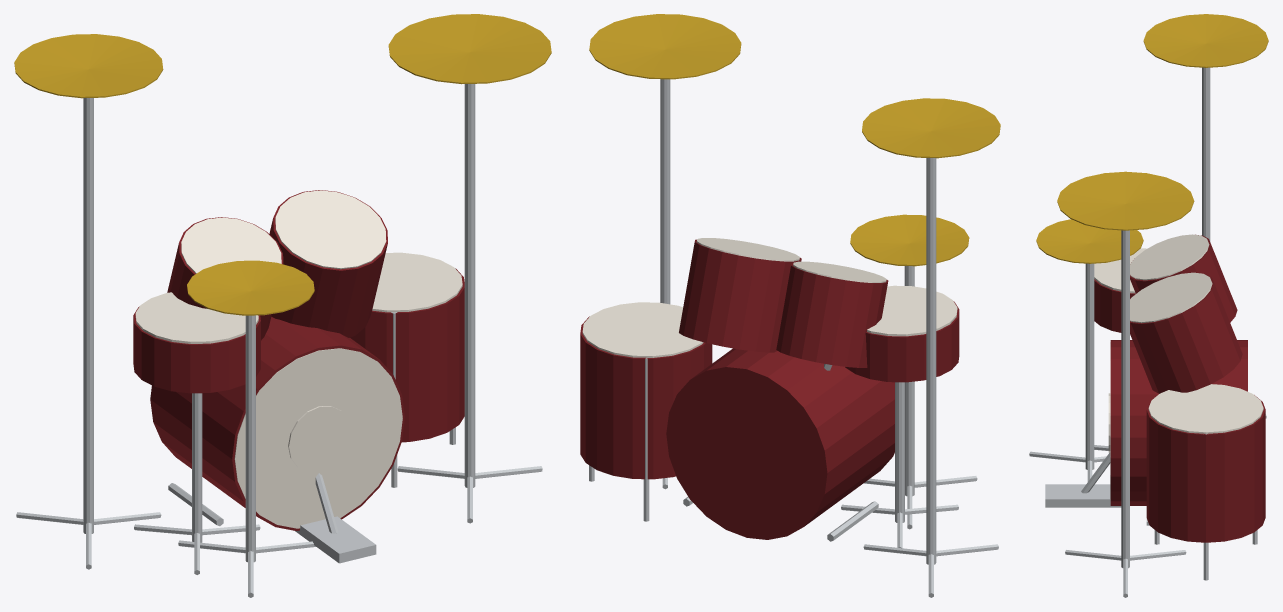
The model's file is drum-kit.glb.
3 renders of one model, left to right at view 1: azimuth 30°, elevation 25°; view 2: azimuth 150°, elevation 25°; view 3: azimuth 270°, elevation 25°, orthographic. The views are drawn at different scales.
Visible parts, largest first — view 1: drum-skins, drum-shells, cymbals, drum-hardware, kick-pedal; view 2: drum-shells, cymbals, drum-hardware, drum-skins; view 3: drum-shells, cymbals, drum-skins, drum-hardware, kick-pedal.
Part boxes in pixels (x1,y1,x2,y2): drum-skins: (135, 190, 462, 528); drum-shells: (133, 190, 464, 530); cymbals: (14, 14, 551, 315); drum-hardware: (16, 84, 542, 597); kick-pedal: (295, 473, 376, 563); drum-shells: (580, 239, 959, 539); cymbals: (589, 14, 1000, 266); drum-hardware: (589, 79, 998, 597); drum-skins: (582, 238, 957, 357); drum-shells: (1094, 234, 1265, 542); cymbals: (1036, 14, 1268, 263); drum-skins: (1094, 234, 1263, 503); drum-hardware: (1029, 67, 1266, 597); kick-pedal: (1045, 452, 1121, 507).
Size of the model in its own units: 1.52 by 1.45 by 0.8036.
